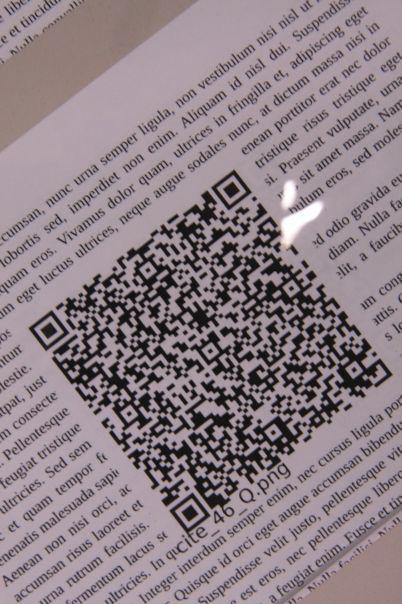Finder pattern: (209, 170, 253, 209), (169, 493, 209, 534), (29, 311, 67, 353)
